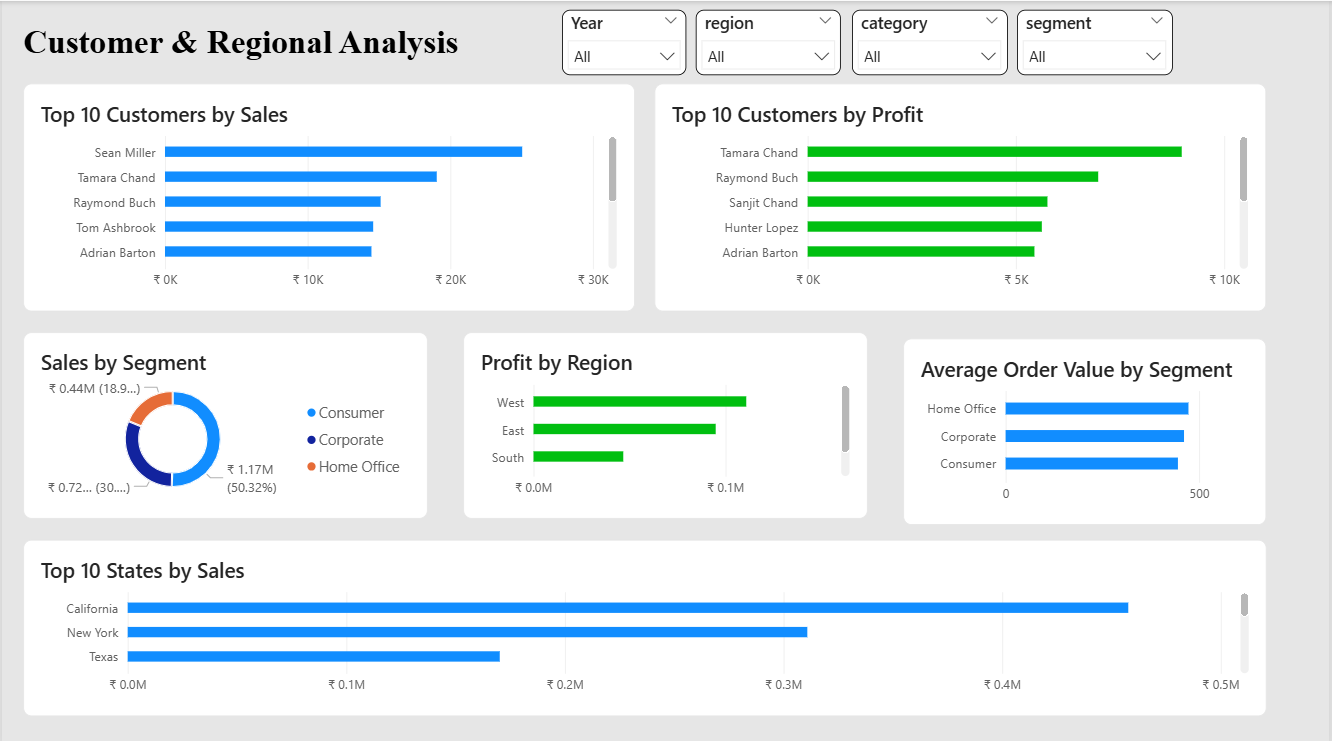

What the dashboard file says about the page in this screenshot:
{"tool":"powerbi","page":{"name":"Page 3","canvas":[1280,720],"ordinal":2},"visuals":[{"type":"textbox","box":[20,8,370,35],"z":0},{"type":"slicer","fields":{"Values":["DateTable.Year"]},"box":[540,8,120,63],"z":1},{"type":"slicer","fields":{"Values":["superstore.region"]},"box":[670,8,140,63],"z":2},{"type":"slicer","fields":{"Values":["superstore.category"]},"box":[820,8,150,63],"z":3},{"type":"slicer","fields":{"Values":["superstore.segment"]},"box":[980,8,150,63],"z":4},{"type":"clusteredBarChart","title":"Top 10 Customers by Sales","fields":{"Category":["superstore.customer_name"],"Y":["DateTable.Total Sales"]},"box":[20,80,590,220],"z":5},{"type":"clusteredBarChart","title":"Top 10 Customers by Profit","fields":{"Category":["superstore.customer_name"],"Y":["DateTable.Total Profit"]},"box":[630,80,590,220],"z":6},{"type":"donutChart","title":"Sales by Segment","fields":{"Category":["superstore.segment"],"Y":["DateTable.Total Sales"]},"box":[20,320,390,180],"z":7},{"type":"clusteredBarChart","title":"Profit by Region","fields":{"Category":["superstore.region"],"Y":["DateTable.Total Profit"]},"box":[445,320,390,180],"z":8},{"type":"clusteredBarChart","title":"Average Order Value by Segment","fields":{"Category":["superstore.segment"],"Y":["DateTable.Average Order Value"]},"box":[870,326,350,180],"z":9},{"type":"clusteredBarChart","title":"Top 10 States by Sales","fields":{"Category":["superstore.state"],"Y":["DateTable.Total Sales"]},"box":[20,520,1200,170],"z":10}]}

Visuals, with their boxes in screenshot pixels (x1, y1, x2, y2), scaled from the page's 1280x720 canvas onto the 1332x741 screenshot:
textbox: select_region(21, 8, 406, 44)
slicer - DateTable.Year: select_region(562, 8, 687, 73)
slicer - superstore.region: select_region(697, 8, 843, 73)
slicer - superstore.category: select_region(853, 8, 1009, 73)
slicer - superstore.segment: select_region(1020, 8, 1176, 73)
"Top 10 Customers by Sales" clusteredBarChart: select_region(21, 82, 635, 309)
"Top 10 Customers by Profit" clusteredBarChart: select_region(656, 82, 1270, 309)
"Sales by Segment" donutChart: select_region(21, 329, 427, 515)
"Profit by Region" clusteredBarChart: select_region(463, 329, 869, 515)
"Average Order Value by Segment" clusteredBarChart: select_region(905, 336, 1270, 521)
"Top 10 States by Sales" clusteredBarChart: select_region(21, 535, 1270, 710)
